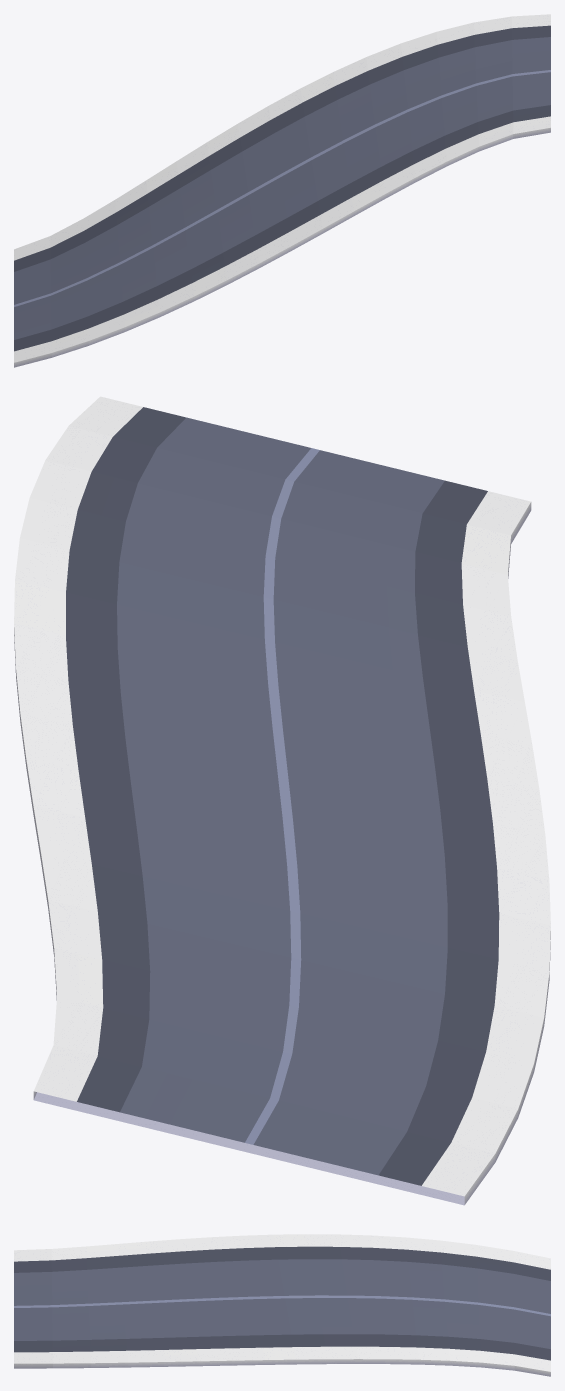
The model's file is road-Chicane-Flat-BiSlopeDown-Down2-Left1-Size2.glb.
3 renders of one model, top to bottom at view 1: azimuth 90°, elevation 25°; view 2: azimuth 150°, elevation 25°; view 3: azimuth 270°, elevation 25°, orthographic. The views are drawn at different scales.
Parts seen in each view (by area): view 1: road-Chicane-Flat-BiSlopeDown-Down2-Left1-Size2; view 2: road-Chicane-Flat-BiSlopeDown-Down2-Left1-Size2; view 3: road-Chicane-Flat-BiSlopeDown-Down2-Left1-Size2.
Part boxes in pixels (x1=…): road-Chicane-Flat-BiSlopeDown-Down2-Left1-Size2: x1=14, y1=14, x2=550, y2=367; road-Chicane-Flat-BiSlopeDown-Down2-Left1-Size2: x1=14, y1=396, x2=550, y2=1205; road-Chicane-Flat-BiSlopeDown-Down2-Left1-Size2: x1=14, y1=1234, x2=550, y2=1376.
Size of the model in its own units: 2 by 0.52 by 2.
Materials: 1 (1 with a texture image).
